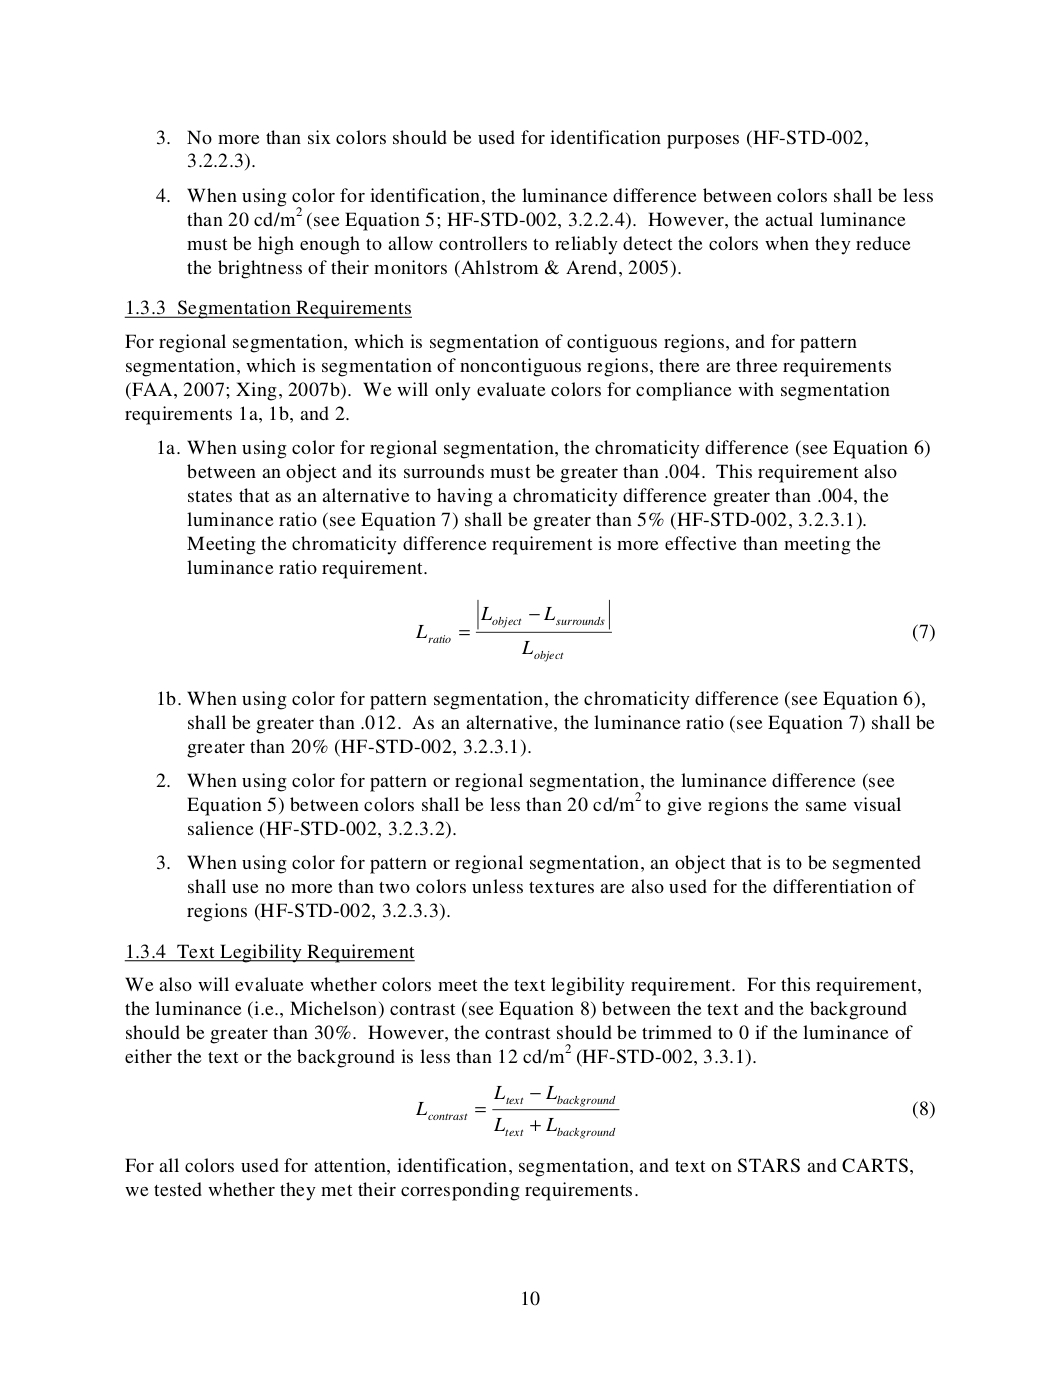formula: (416, 598, 934, 662), (416, 1084, 934, 1139)
